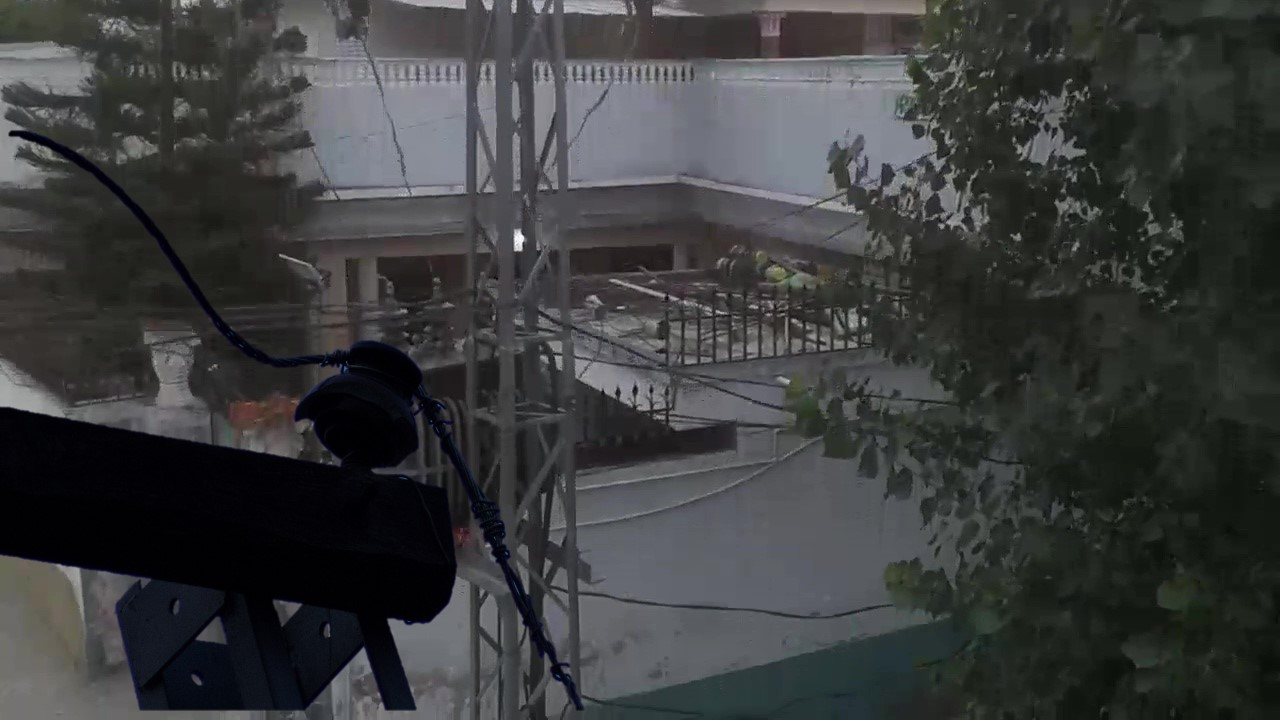defect_pin: (290, 335, 427, 474)
